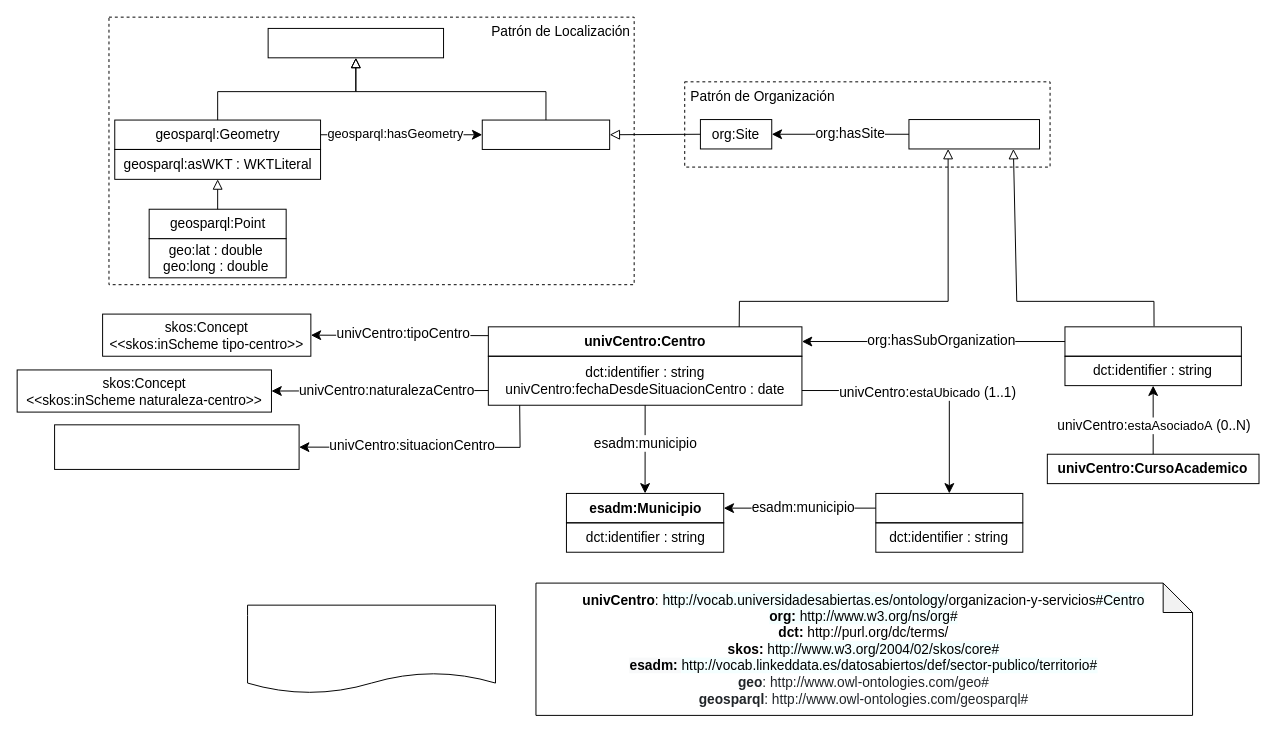
Some shapes in this 1277 by 733 pixel diagram are drawn without their labels. Here are the shapes that lost their labels. From the top down, the box of each, then its label:
(267, 27, 444, 58): geosparql:SpatialObject
(481, 119, 610, 149): geosparql:Feature
(908, 119, 1039, 149): org:Organization
(1064, 326, 1241, 356): univCentro :Universidad
(54, 424, 299, 469): skos:Concept <<skos:inScheme situacion-centro>>
(875, 492, 1023, 523): univCentro :Campus
(247, 604, 495, 693): dc:creator: Víctor Morcuende owl:versionInfo: 0.0.3 dc:title: Template Ontology
